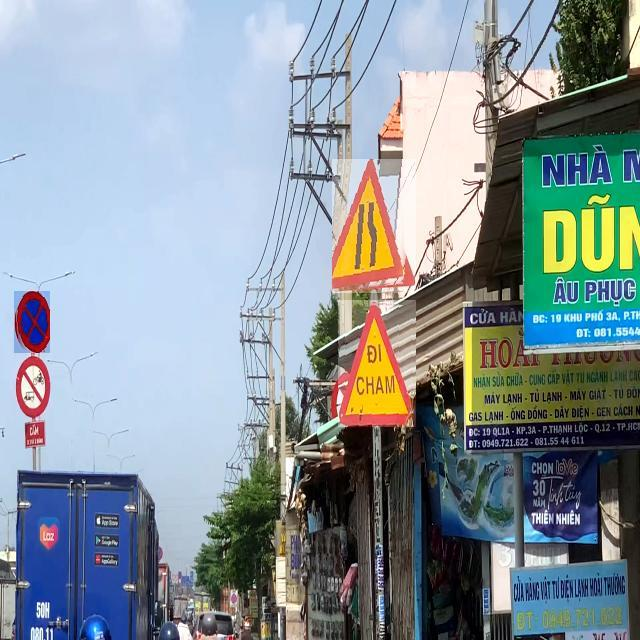P-130: (14, 291, 50, 353), (232, 594, 236, 603)
W-207c: (333, 159, 417, 293)
W-245a: (338, 300, 416, 427)
